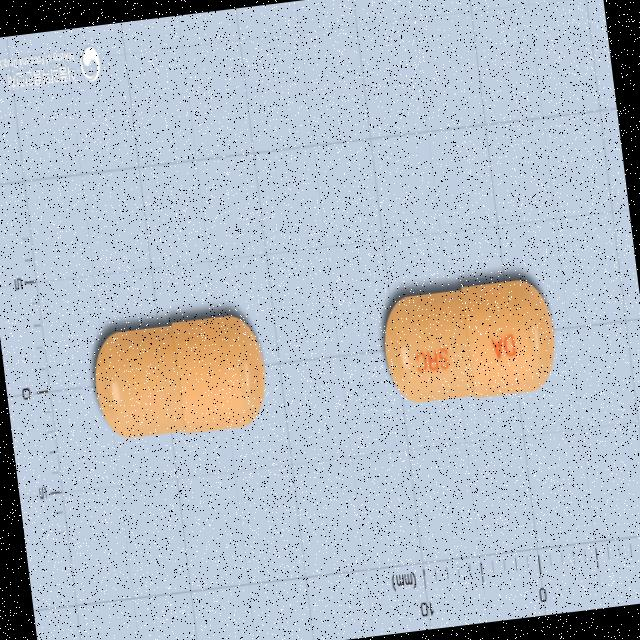Suprax Cap- Dong-A: (377, 274, 562, 410), (87, 310, 271, 444)
